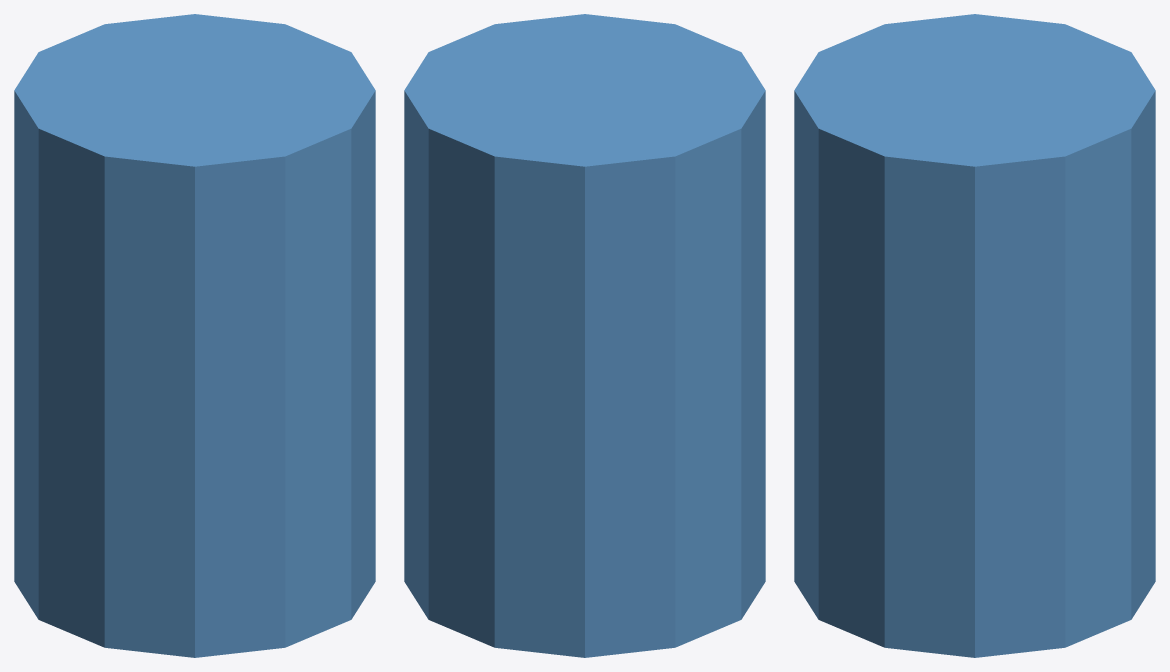
Rendered from test-barrel.glb.
3 views of the same model, side by side, from view 1: azimuth 30°, elevation 25°; view 2: azimuth 150°, elevation 25°; view 3: azimuth 270°, elevation 25° (orthographic).
Visible parts, largest first — view 1: TestBarrel; view 2: TestBarrel; view 3: TestBarrel.
Boxes of the visible parts, bbox=[...] form: TestBarrel: bbox=[14, 14, 375, 657]; TestBarrel: bbox=[404, 14, 765, 657]; TestBarrel: bbox=[794, 14, 1155, 657].
Size of the model in its own units: 0.6 by 0.9 by 0.6.
